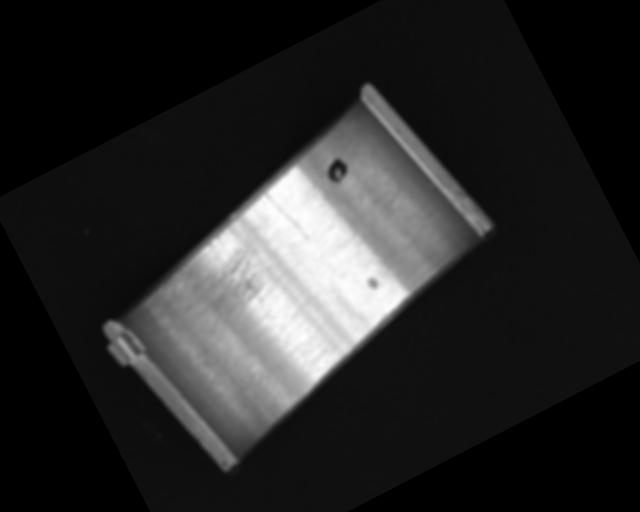blot: (320, 155, 352, 186)
bruise: (365, 273, 381, 292)
nick: (385, 170, 467, 270), (264, 184, 311, 249)
scratch: (144, 213, 284, 343)
